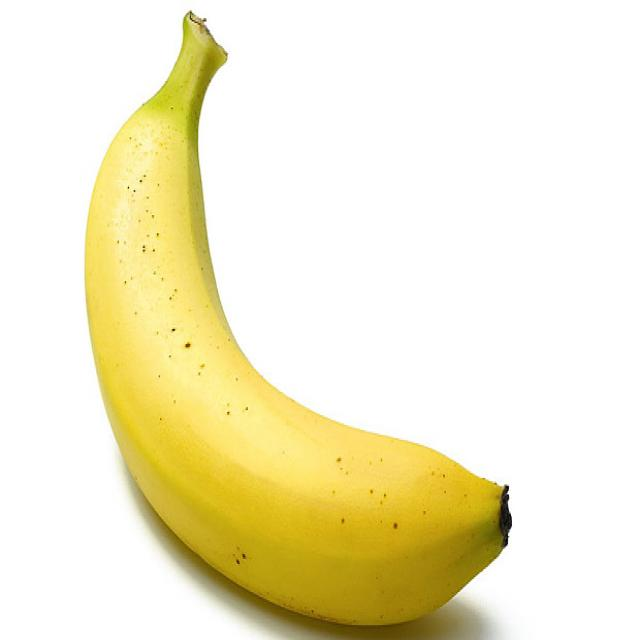banana: (87, 6, 513, 632)
